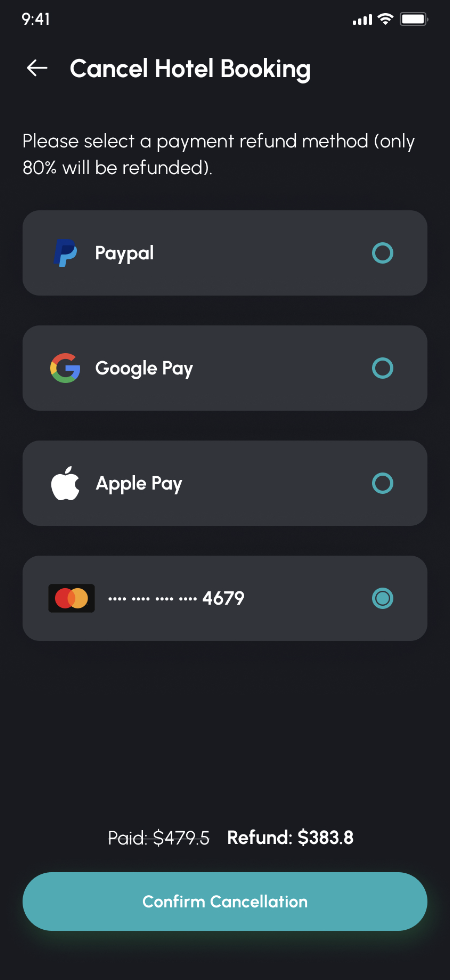AppBar: (1, 28, 450, 93)
